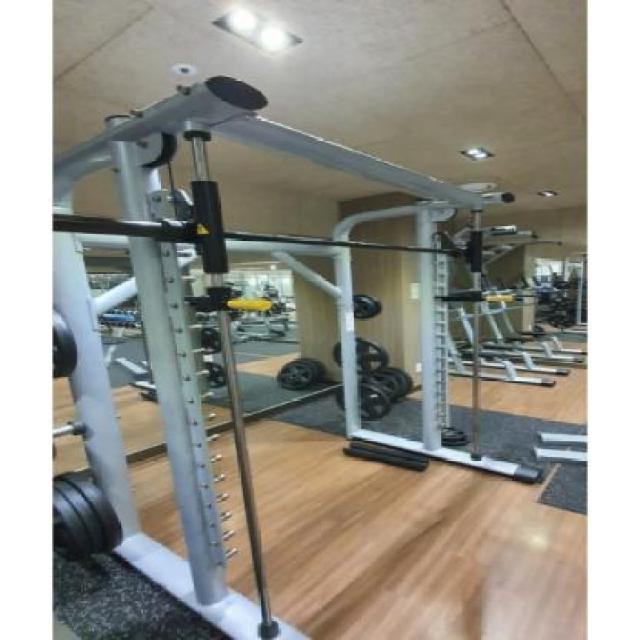smith machine: (49, 77, 516, 640)
